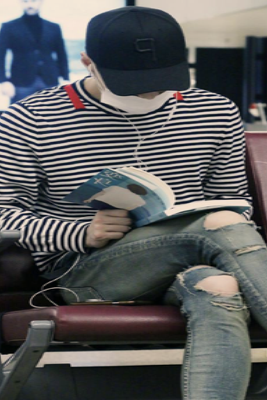mask_weared_incorrect: (95, 76, 173, 116)
